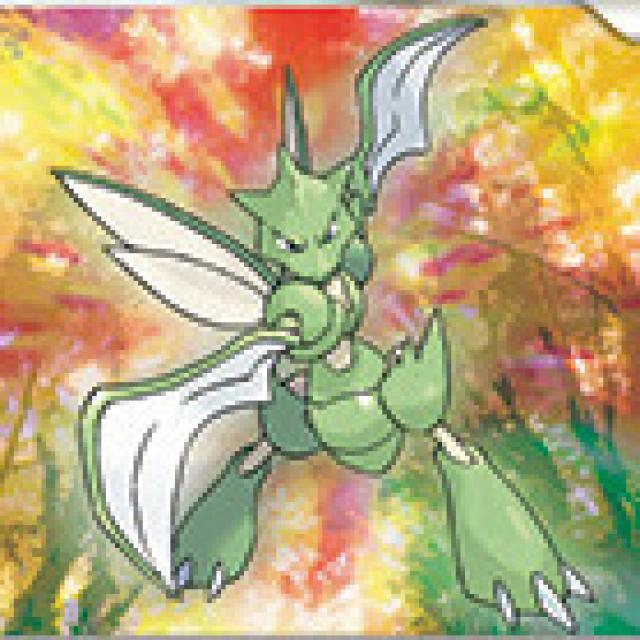Scyther: (84, 14, 509, 594)
